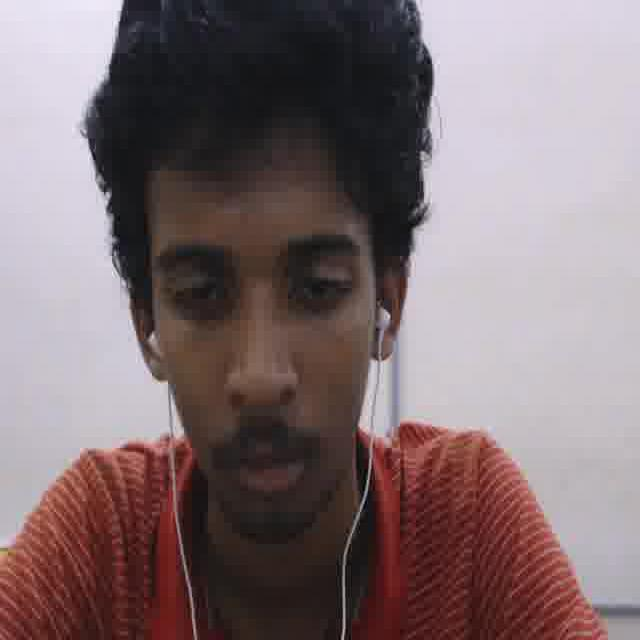Boredom: (136, 128, 379, 536)
